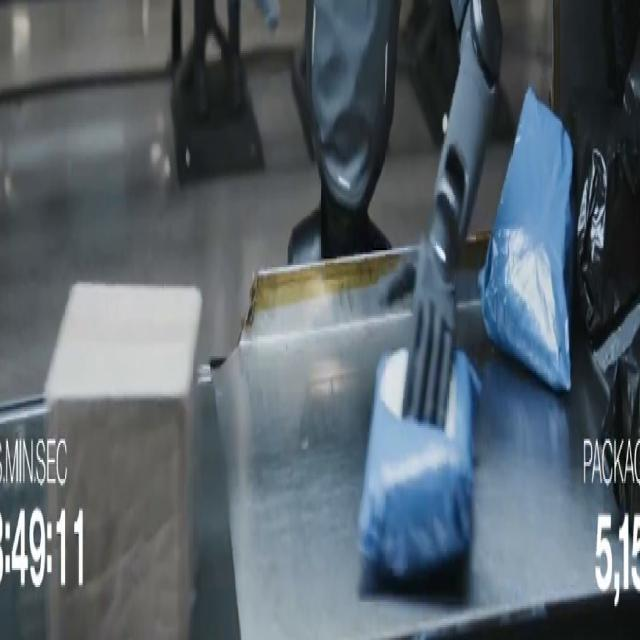package: (45, 284, 201, 639), (480, 90, 574, 392), (360, 350, 479, 580), (573, 102, 639, 345), (601, 333, 639, 521), (604, 0, 639, 103), (624, 39, 639, 114)
